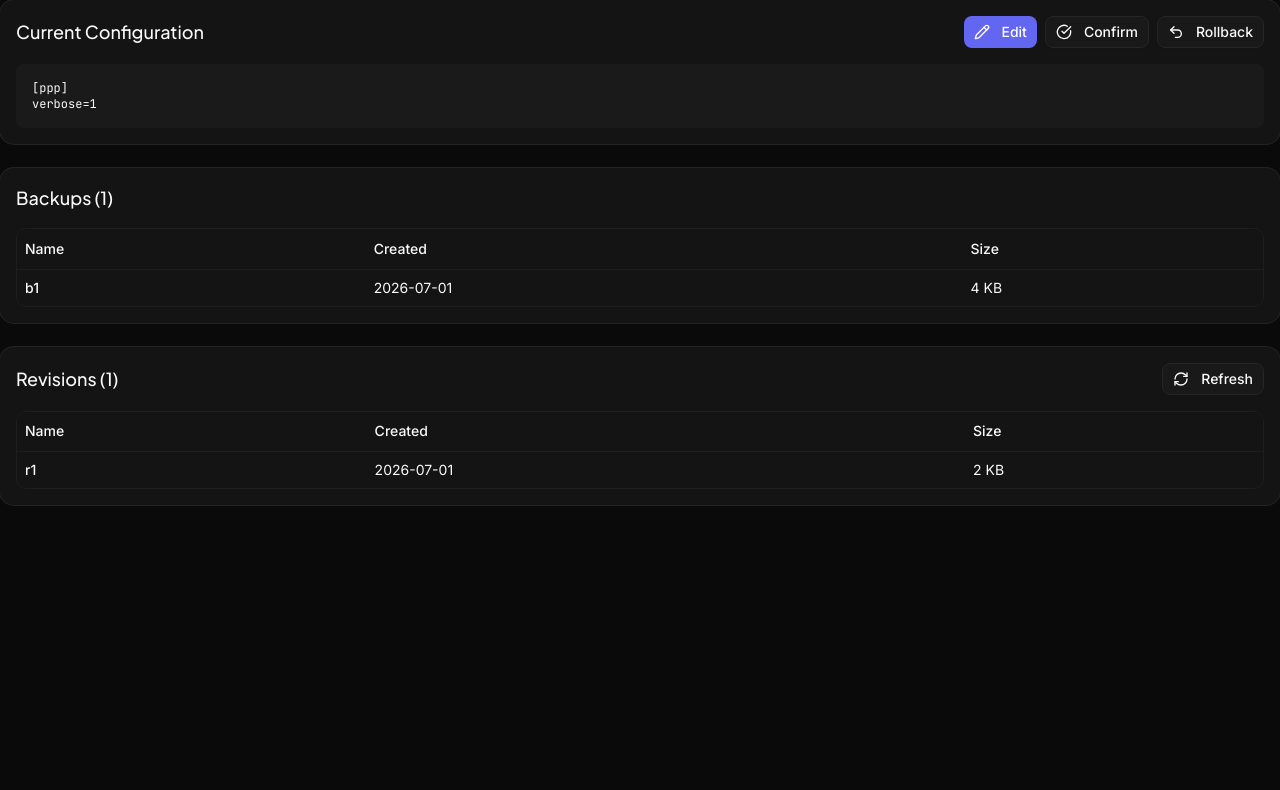
ConfigPage server validation › handles single validation issue (no plural 's')
Click the button "Edit" at (1000, 32), box [964, 16, 1037, 48]
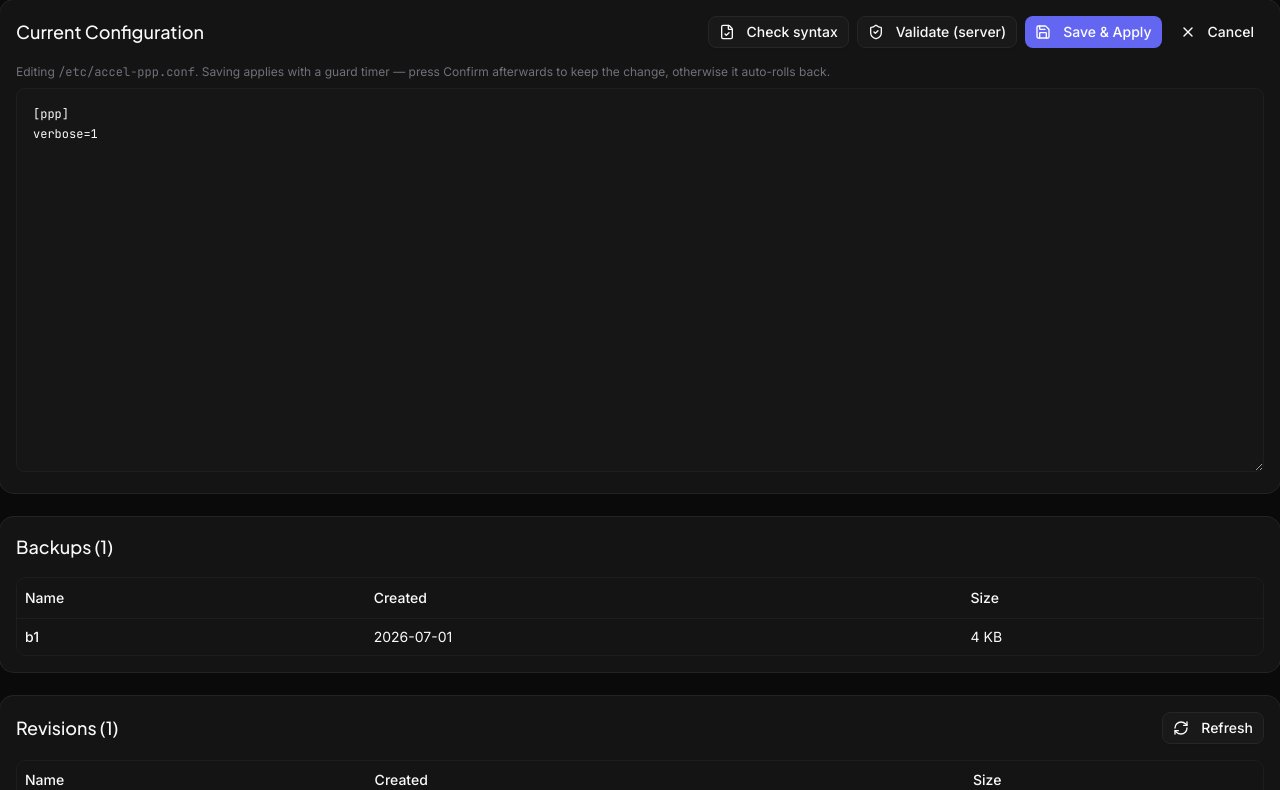
Click the button "Validate (server)" at (937, 32), box [857, 16, 1017, 48]
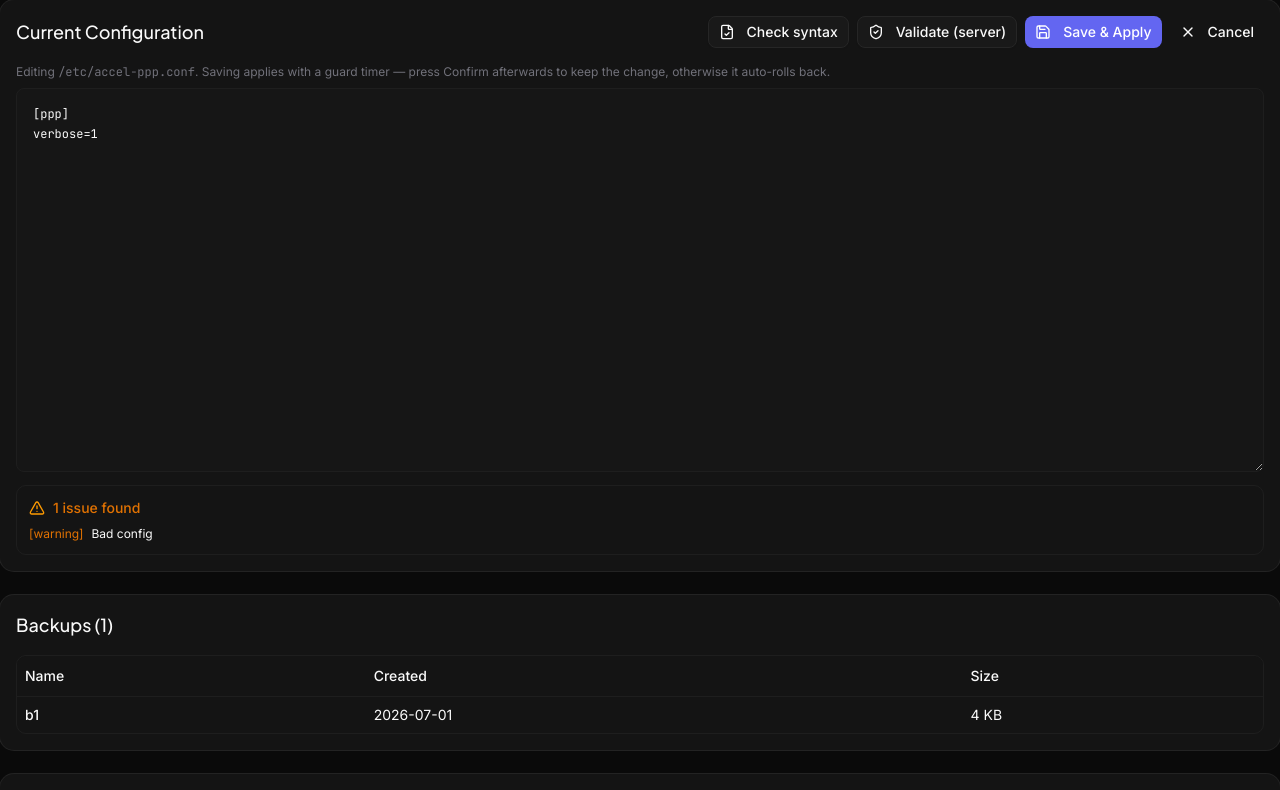
Check: the text "[warning]" is shown, box [29, 526, 84, 542]
Check: the text "Bad config" is shown, box [92, 526, 153, 542]
